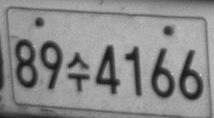1: (123, 46, 146, 96)
4: (95, 44, 121, 94)
6: (178, 48, 204, 101), (150, 47, 175, 98)
8: (13, 38, 38, 88)
9: (39, 39, 63, 89)
수: (66, 51, 90, 92)
